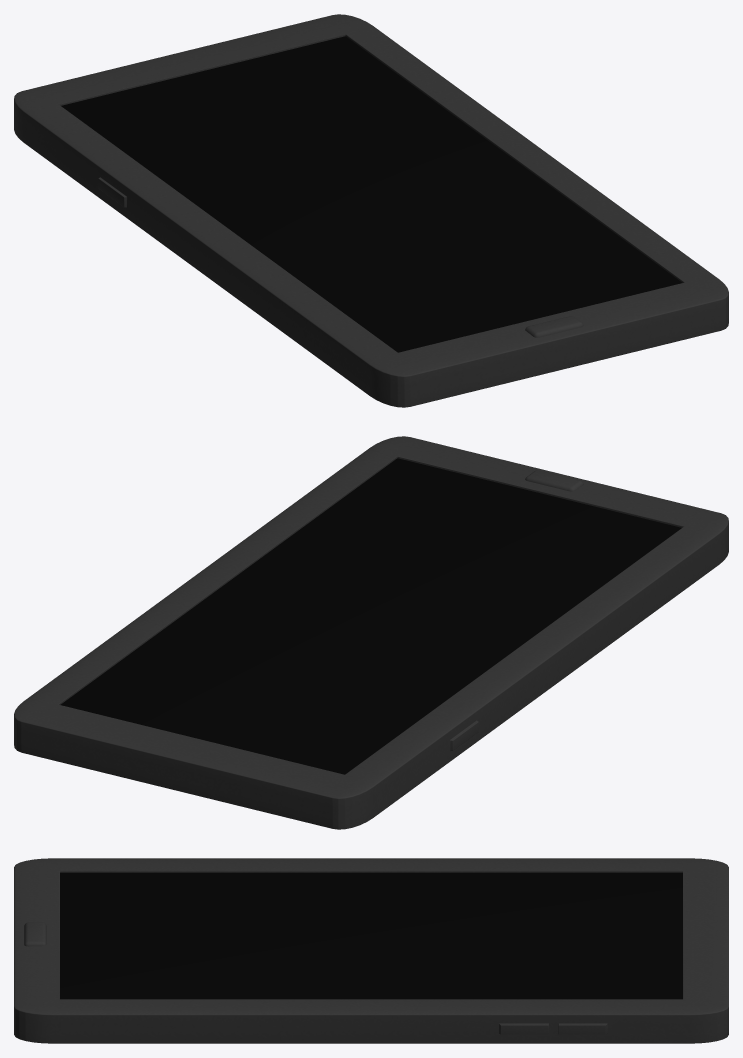
File: cell_phone2.glb
3 renders of one model, top to bottom at view 1: azimuth 30°, elevation 25°; view 2: azimuth 150°, elevation 25°; view 3: azimuth 270°, elevation 25°, orthographic. The views are drawn at different scales.
Visible parts, largest first — view 1: Cube; view 2: Cube; view 3: Cube.
Boxes of the visible parts, <box> form: Cube: <box>14,14,728,407</box>; Cube: <box>14,436,728,829</box>; Cube: <box>14,858,728,1043</box>.
Size of the model in its own units: 3.76 by 0.3857 by 7.13.
3 materials, 3 textured.
